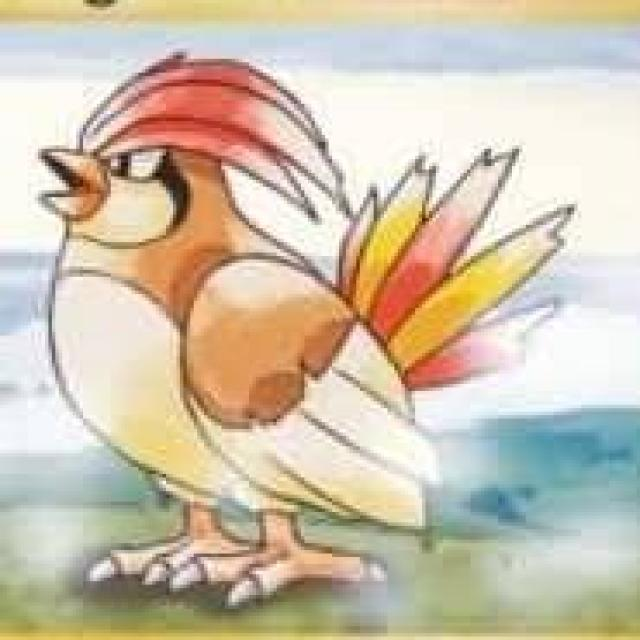Pidgeotto: (20, 51, 471, 583)
